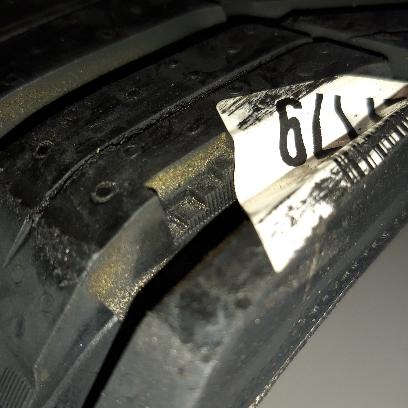temoin:100: (142, 130, 238, 251)
